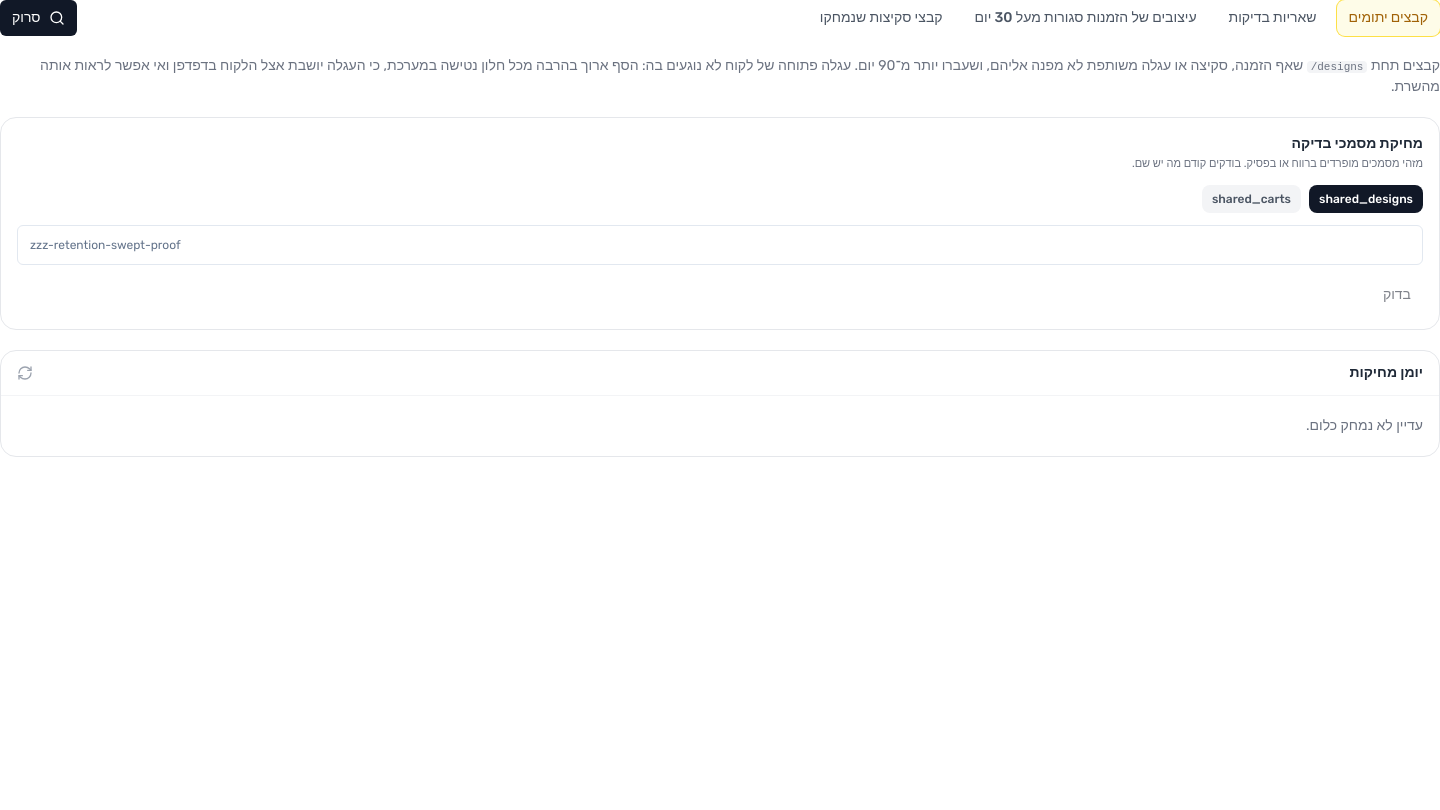
StorageCleanupPanel — per-run cap on the selection (TICKET-021) › orphans under the cap: everything selected, no notice, button enabled
Click the button "סרוק": (38, 18) 0,0 -> 77,36
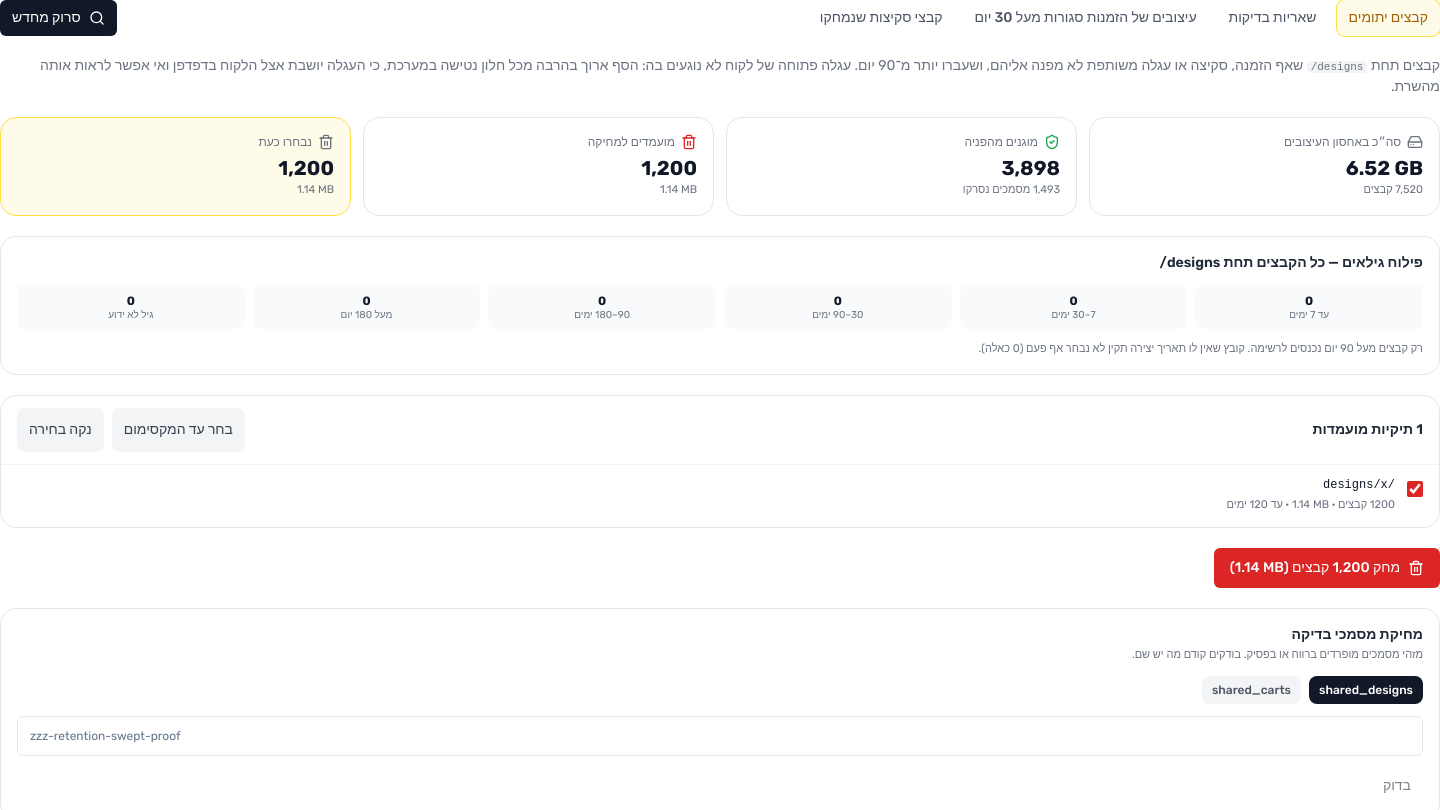
Now the text "נבחרו כעת" is shown, box 258,134 -> 312,150
Now the button "מחק 1,200 קבצים ( 1.14 MB )" is enabled
Click the button "מחק 1,200 קבצים ( 1.14 MB )": (1327, 568) 1214,548 -> 1439,588
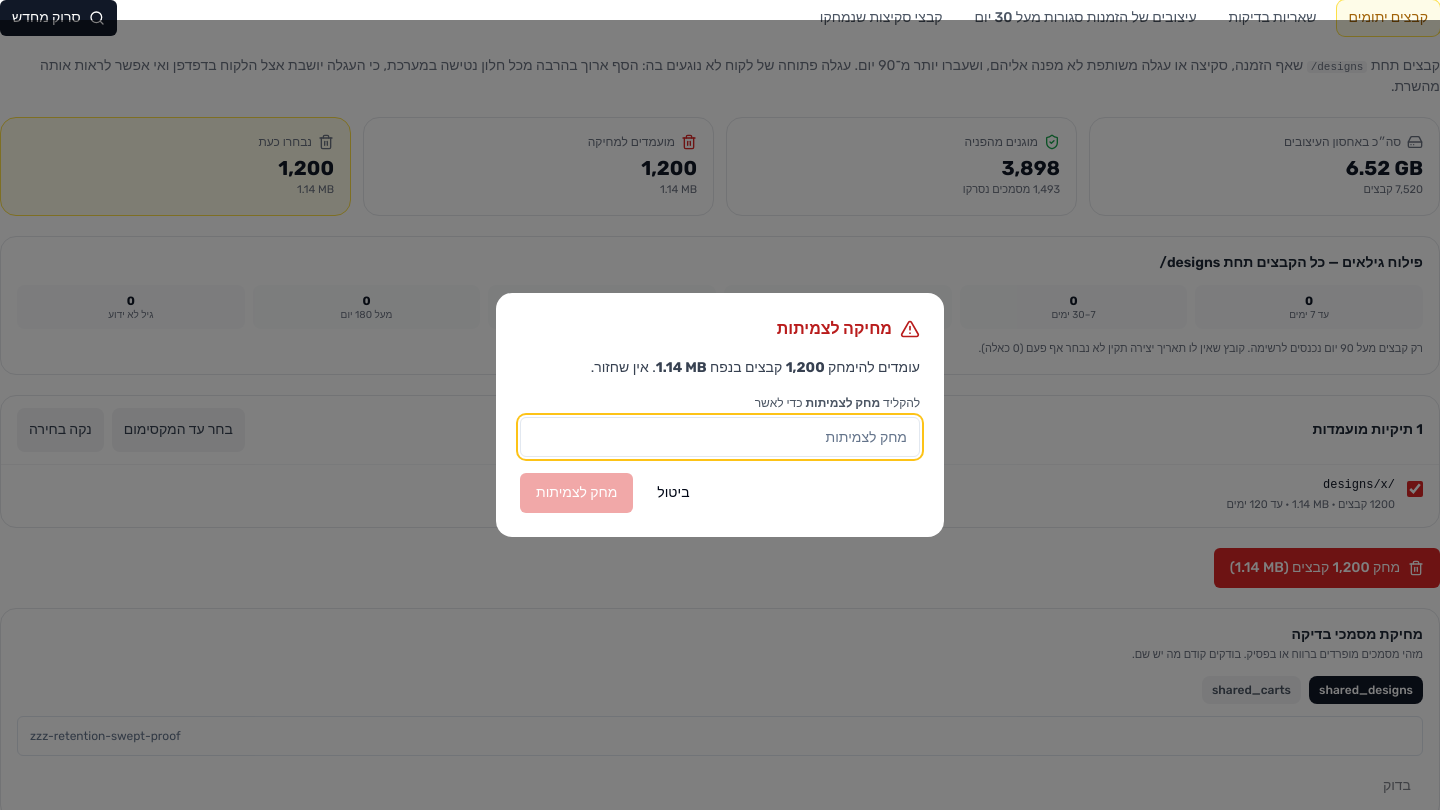
Now the heading "מחיקה לצמיתות" is shown, box 777,317 -> 892,341
